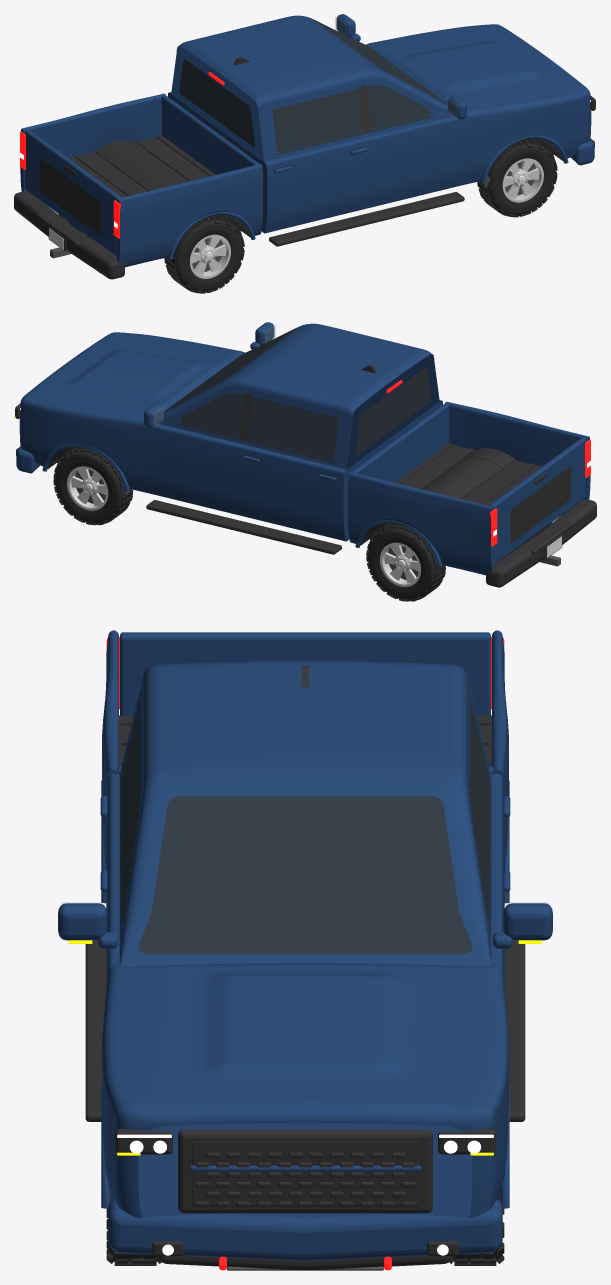
The model's file is pickup_truck.glb.
3 renders of one model, top to bottom at view 1: azimuth 30°, elevation 25°; view 2: azimuth 150°, elevation 25°; view 3: azimuth 270°, elevation 25°, orthographic. The views are drawn at different scales.
Visible parts, largest first — view 1: body, bed, cab_glass, tailgate_tilt, wheel_rear_right_spin, wheel_front_right_spin, rear_bumper, front_fascia; view 2: body, bed, cab_glass, tailgate_tilt, wheel_rear_left_spin, wheel_front_left_spin, rear_bumper, front_fascia; view 3: body, cab_glass, front_fascia, tailgate_tilt, bed.
Part boxes in pixels (x1=…): body: x1=109, y1=14, x2=591, y2=259; bed: x1=20, y1=93, x2=262, y2=267; cab_glass: x1=179, y1=20, x2=447, y2=151; tailgate_tilt: x1=24, y1=129, x2=121, y2=256; wheel_rear_right_spin: x1=164, y1=215, x2=244, y2=293; wheel_front_right_spin: x1=477, y1=138, x2=557, y2=217; rear_bumper: x1=14, y1=131, x2=124, y2=279; front_fascia: x1=571, y1=95, x2=596, y2=165; body: x1=19, y1=322, x2=501, y2=567; bed: x1=348, y1=401, x2=590, y2=575; cab_glass: x1=163, y1=328, x2=431, y2=459; tailgate_tilt: x1=489, y1=437, x2=586, y2=564; wheel_rear_left_spin: x1=366, y1=523, x2=445, y2=601; wheel_front_left_spin: x1=53, y1=446, x2=133, y2=525; rear_bumper: x1=486, y1=439, x2=596, y2=587; front_fascia: x1=14, y1=403, x2=39, y2=473; body: x1=58, y1=661, x2=552, y2=1217; cab_glass: x1=121, y1=699, x2=489, y2=954; front_fascia: x1=108, y1=1128, x2=502, y2=1270; tailgate_tilt: x1=120, y1=632, x2=490, y2=715; bed: x1=102, y1=630, x2=508, y2=867.
Size of the model in its own units: 5.96 by 2.03 by 2.52.
14 materials, 14 textured.
